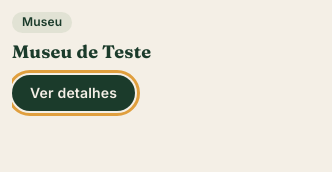
Scenario: MapPopupCard › navega para a página do lugar com o id codificado na URL
Click the link "Ver detalhes".
click(74, 93)  # box [12, 75, 135, 111]
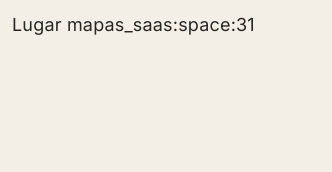
Result: the text "Lugar mapas_saas:space:31" is shown at [12, 14, 255, 35]
